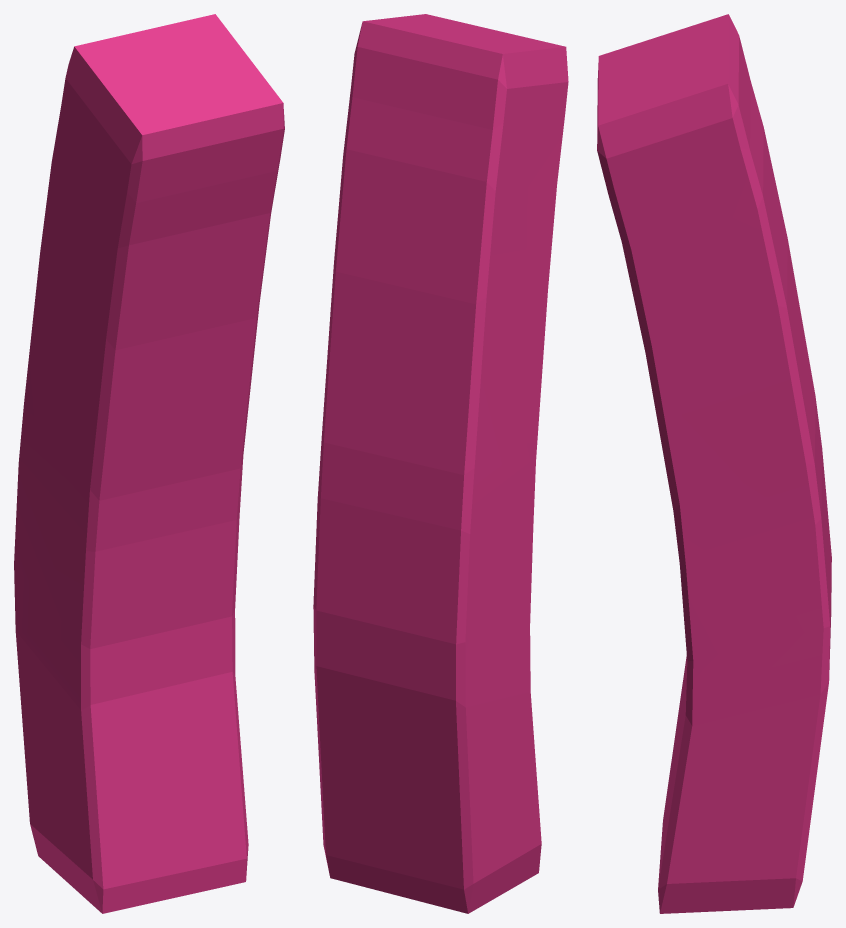
File: sandalye_ayag_2.fbx
3 renders of one model, left to right at view 1: azimuth 30°, elevation 25°; view 2: azimuth 150°, elevation 25°; view 3: azimuth 270°, elevation 25°, orthographic.
Parts seen in each view (by area): view 1: sandalye_ayağı_2; view 2: sandalye_ayağı_2; view 3: sandalye_ayağı_2.
Part boxes in pixels (left/top/right/bottom): sandalye_ayağı_2: left=14, top=14, right=284, bottom=913; sandalye_ayağı_2: left=313, top=14, right=568, bottom=913; sandalye_ayağı_2: left=597, top=14, right=831, bottom=913.
Size of the model in its own units: 70.86 by 356 by 90.94.
1 material, 1 textured.
